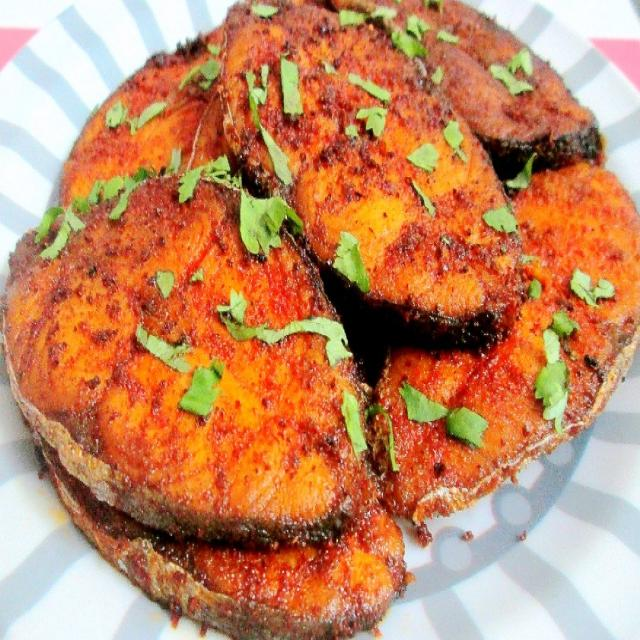FISH FRY: (2, 0, 639, 639)
